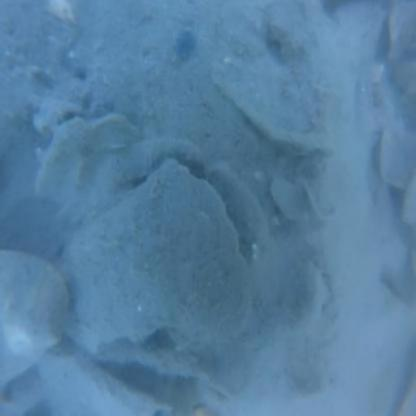3: (38, 339, 233, 416)
Oyster-Closed: (217, 0, 365, 157)
Oyster-Open: (57, 160, 244, 347), (0, 248, 66, 388)
